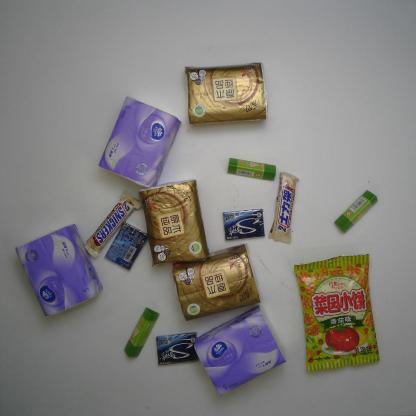Chocolate: (82, 189, 142, 260), (268, 170, 300, 243)
Gum: (104, 221, 148, 271), (155, 330, 200, 366), (221, 207, 268, 241)
Puffed Food: (294, 252, 379, 373)
Stationery: (334, 188, 380, 235), (122, 306, 160, 359), (228, 157, 278, 182)
Tissue: (192, 304, 288, 400), (13, 223, 104, 318), (96, 94, 184, 190), (172, 241, 263, 322), (139, 178, 208, 267), (184, 60, 270, 128)
